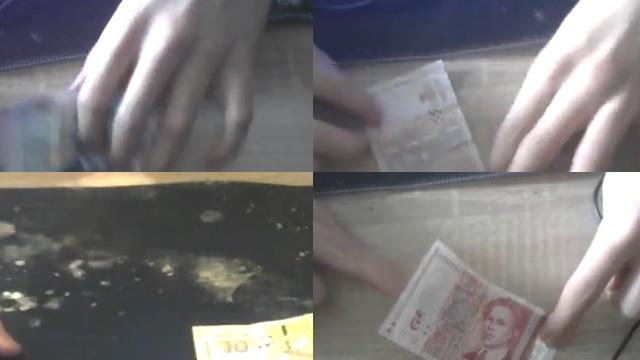10leva: (191, 313, 313, 360)
20leva: (0, 91, 108, 172)
5leva: (377, 240, 556, 360), (363, 59, 483, 172)
